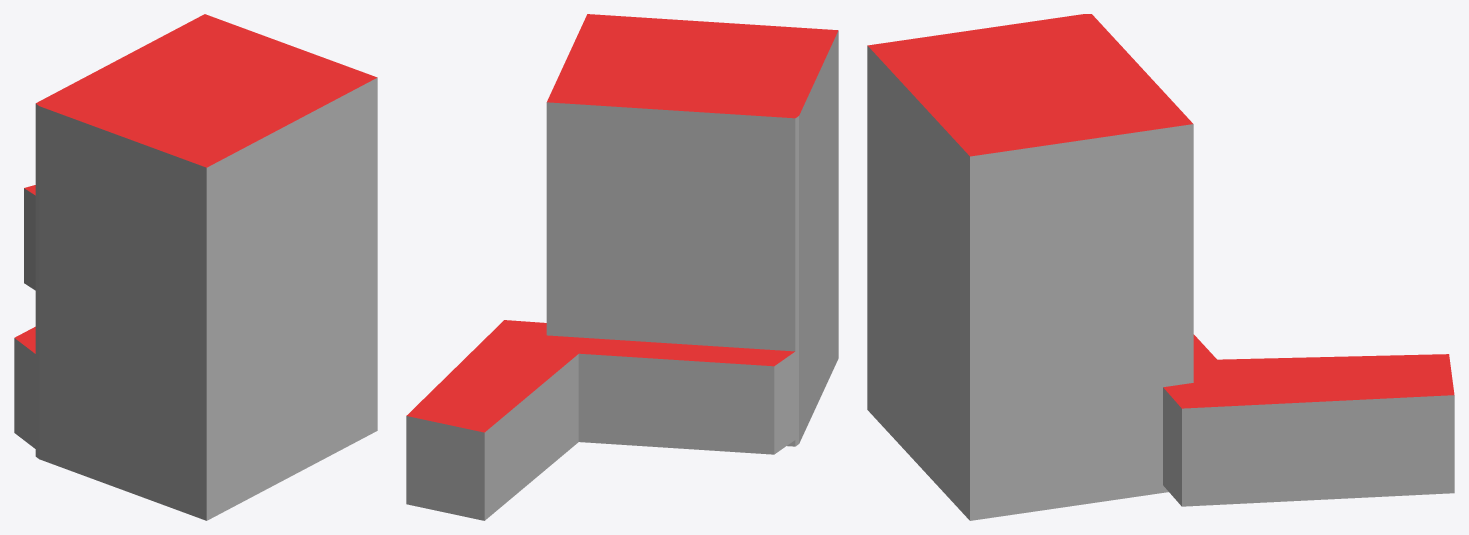
File: DEBE3D04YY50000Js4.dae
3 views of the same model, side by side, from view 1: azimuth 30°, elevation 25°; view 2: azimuth 150°, elevation 25°; view 3: azimuth 270°, elevation 25° (orthographic). The views are drawn at different scales.
Bounding box in the file's own units: 12.15 × 21.14 × 14.48.
